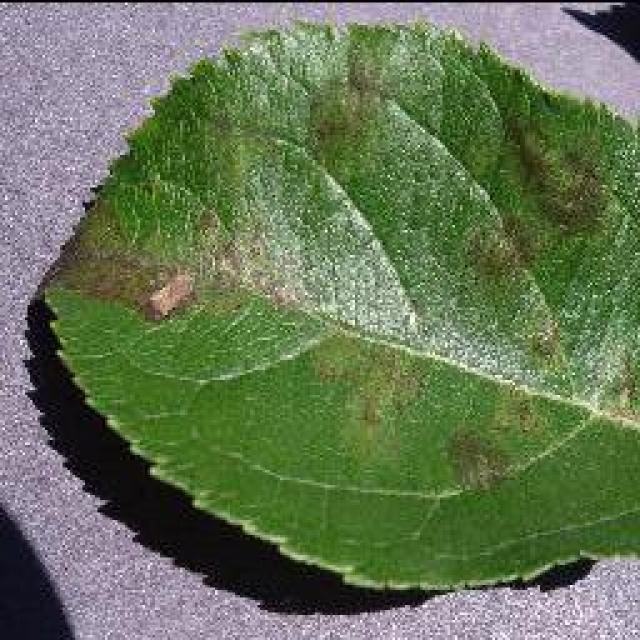apple scab disease: (38, 15, 638, 593)
